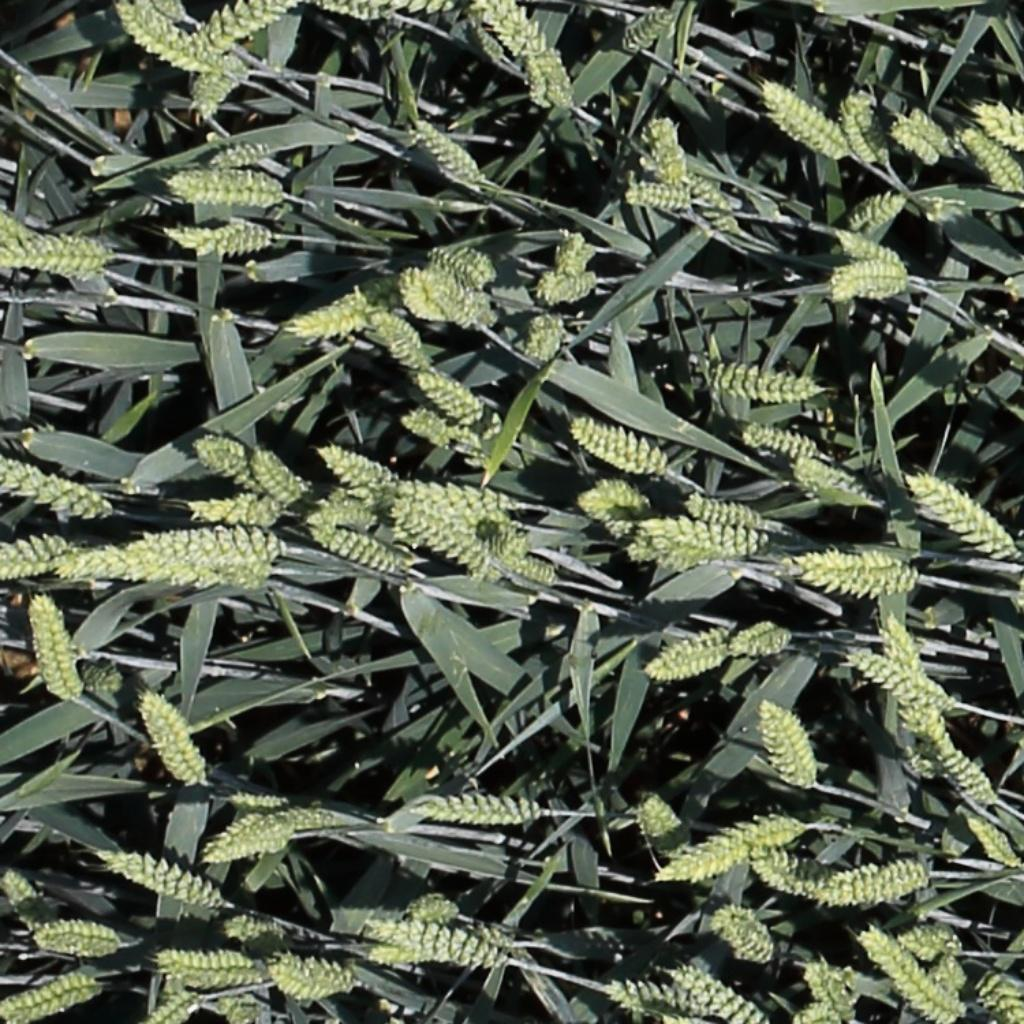0-0: (653, 815, 803, 887), (116, 2, 246, 84), (856, 925, 959, 1022), (906, 469, 1017, 559), (906, 703, 998, 811), (55, 546, 272, 588), (1, 457, 113, 526), (2, 209, 103, 282), (846, 648, 946, 718), (135, 690, 204, 790), (98, 853, 219, 910), (785, 550, 922, 599), (389, 509, 492, 574), (759, 81, 846, 157), (368, 925, 509, 971), (365, 922, 497, 971), (568, 416, 670, 478), (751, 694, 816, 791), (384, 405, 495, 459), (810, 856, 929, 906), (671, 965, 771, 1024), (28, 593, 80, 705), (131, 528, 279, 567), (641, 519, 768, 561), (304, 521, 404, 573), (2, 970, 98, 1024), (408, 113, 481, 184), (284, 286, 378, 341), (162, 168, 285, 210), (392, 499, 512, 542), (189, 0, 294, 49), (697, 365, 823, 405), (408, 791, 543, 828), (958, 118, 1024, 193), (402, 267, 488, 322), (645, 629, 740, 677), (750, 843, 832, 898), (363, 308, 432, 371), (395, 483, 514, 518), (266, 954, 355, 1000), (315, 445, 395, 496), (677, 162, 740, 226), (191, 439, 262, 495), (473, 0, 539, 60), (165, 221, 274, 257), (576, 478, 646, 534), (961, 811, 1022, 875), (877, 610, 928, 685), (0, 234, 112, 268), (156, 952, 268, 986), (172, 72, 253, 119), (1, 536, 77, 586), (0, 868, 57, 933), (800, 958, 858, 1021), (890, 109, 950, 169), (412, 371, 483, 421), (838, 91, 883, 169), (26, 920, 119, 957), (529, 40, 576, 113), (629, 537, 719, 575), (709, 909, 772, 962), (794, 458, 871, 501), (247, 447, 303, 506), (606, 978, 697, 1014), (199, 830, 290, 865), (829, 261, 904, 303), (211, 813, 355, 834), (647, 110, 685, 188), (425, 243, 490, 286), (686, 494, 765, 529), (834, 228, 903, 268), (741, 423, 821, 457), (218, 914, 298, 948), (460, 12, 507, 68), (186, 494, 278, 522), (974, 102, 1024, 152), (619, 4, 671, 51), (522, 309, 563, 368), (635, 795, 683, 845), (621, 177, 690, 210), (847, 191, 905, 230), (898, 921, 956, 960), (555, 222, 587, 285), (311, 497, 383, 524), (408, 892, 460, 929), (736, 620, 789, 656), (308, 0, 386, 24), (539, 271, 599, 301), (498, 554, 555, 585), (987, 974, 1023, 1023), (147, 989, 197, 1024), (207, 141, 266, 170), (70, 664, 118, 693), (226, 795, 290, 811), (795, 1003, 841, 1024)
